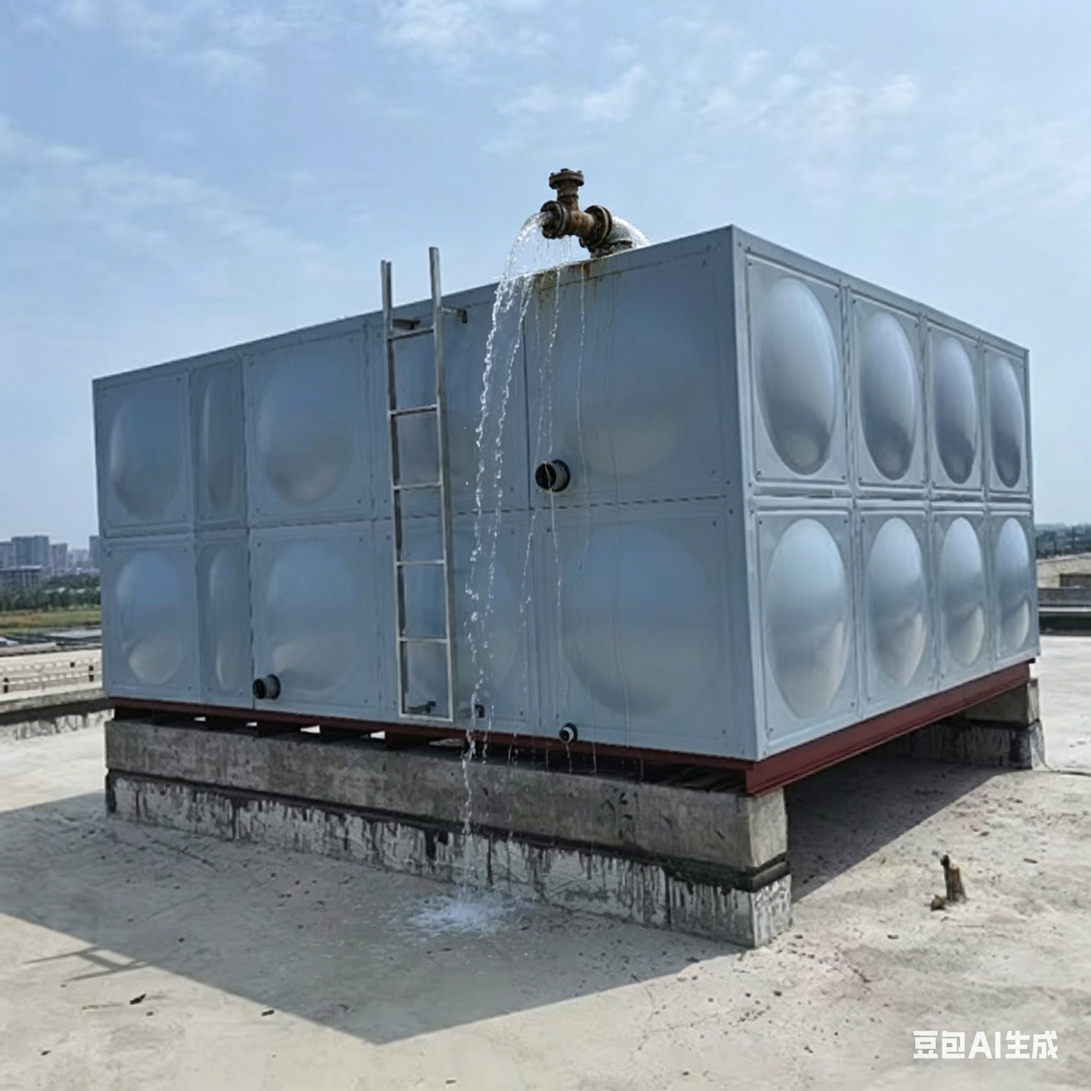Leakage: (435, 199, 566, 955)
